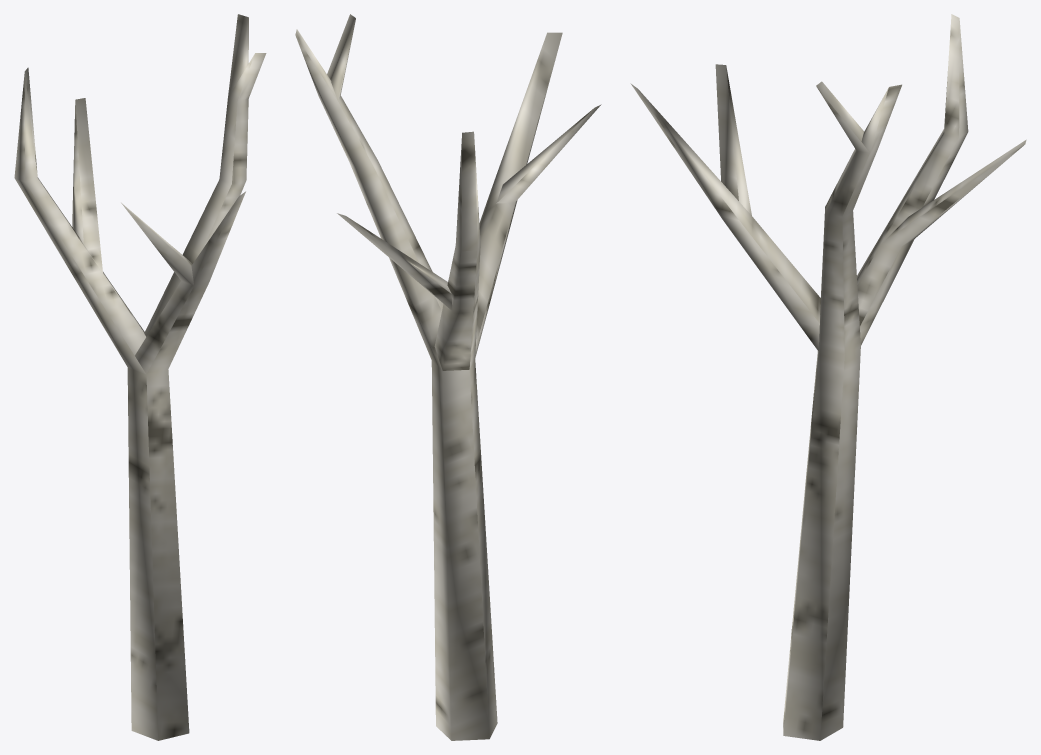
The model's file is birchnak_1.obj.
The picture shows the model from 3 angles, left to right: view 1: azimuth 30°, elevation 25°; view 2: azimuth 150°, elevation 25°; view 3: azimuth 270°, elevation 25°; orthographic projection. The views are drawn at different scales.
Parts seen in each view (by area): view 1: birchnak_1; view 2: birchnak_1; view 3: birchnak_1.
Boxes of the visible parts, x1,y1,x2,y2 form: birchnak_1: (14,14,266,740); birchnak_1: (295,14,601,740); birchnak_1: (630,14,1026,740).
Bounding box in the file's own units: 1.23 × 3.75 × 1.91.
